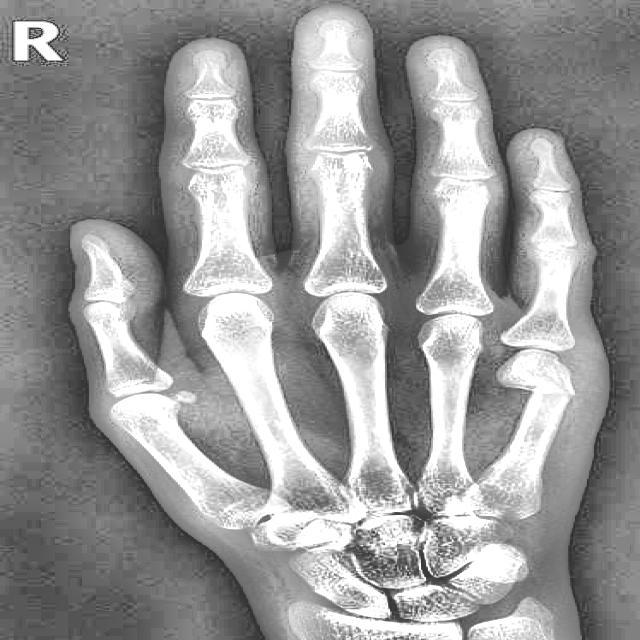fracture: (512, 383, 576, 404)
